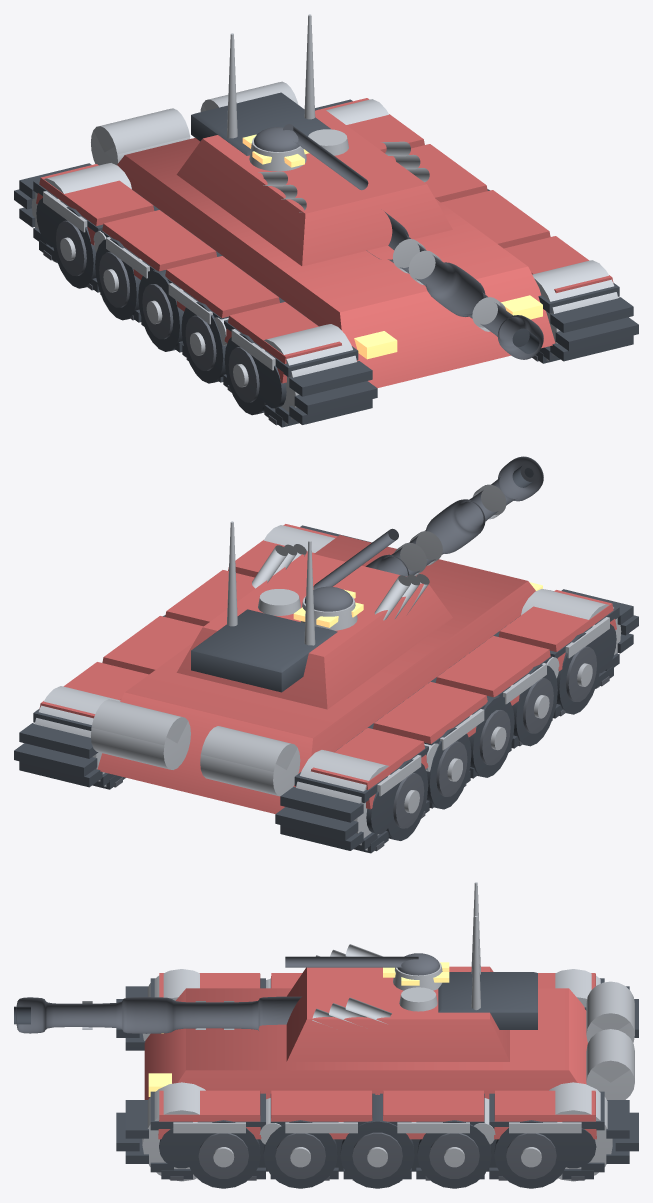
Rendered from htnk.glb.
3 renders of one model, top to bottom at view 1: azimuth 30°, elevation 25°; view 2: azimuth 150°, elevation 25°; view 3: azimuth 270°, elevation 25°, orthographic. The views are drawn at different scales.
Visible parts, largest first — view 1: Hull, Turret, Barrel; view 2: Hull, Turret, Barrel; view 3: Hull, Turret, Barrel.
Part boxes in pixels (left/top/right/bottom): Hull: left=14, top=98, right=638, bottom=427; Turret: left=93, top=14, right=527, bottom=312; Barrel: left=370, top=222, right=543, bottom=359; Hull: left=14, top=524, right=638, bottom=853; Turret: left=91, top=521, right=527, bottom=771; Barrel: left=367, top=456, right=543, bottom=576; Hull: left=116, top=969, right=638, bottom=1188; Turret: left=186, top=882, right=633, bottom=1082; Barrel: left=14, top=996, right=283, bottom=1033.
Bounding box in the file's own units: 2.06 × 1.38 × 3.6.
